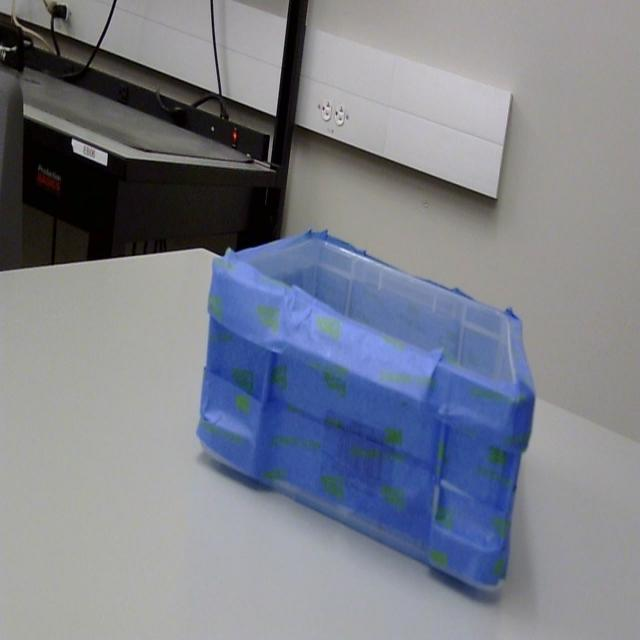bucket: (194, 231, 536, 606)
